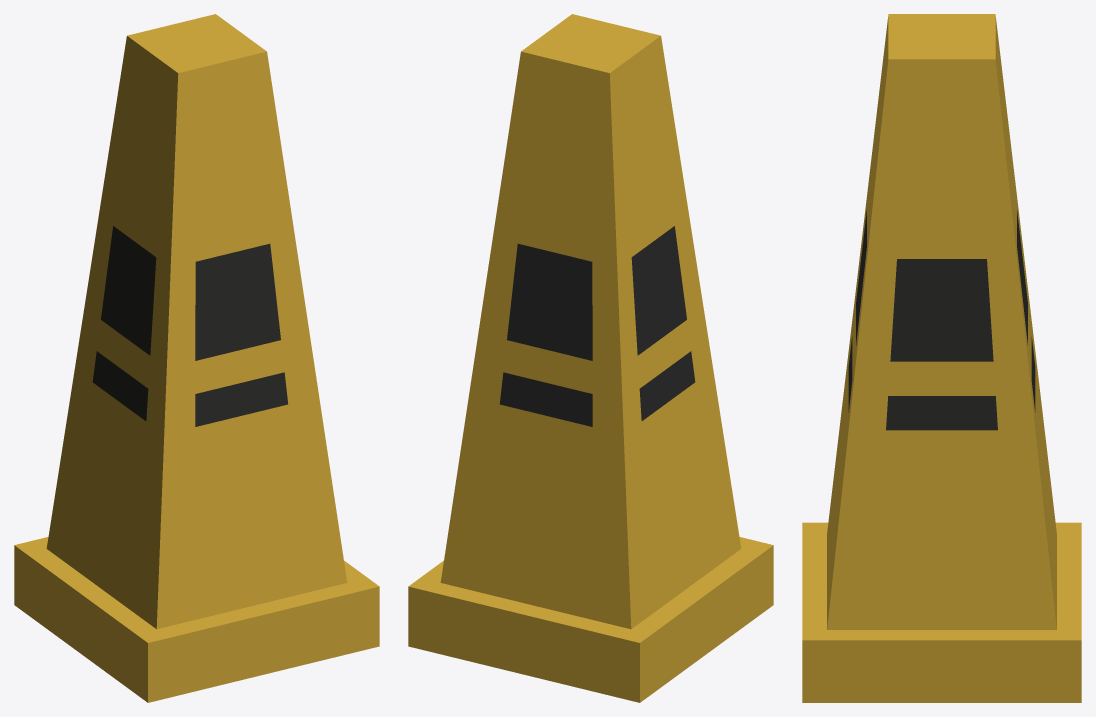
File: wetFloorCone.fbx
3 renders of one model, left to right at view 1: azimuth 30°, elevation 25°; view 2: azimuth 150°, elevation 25°; view 3: azimuth 270°, elevation 25°, orthographic. The views are drawn at different scales.
Visible parts, largest first — view 1: wetFloorCone; view 2: wetFloorCone; view 3: wetFloorCone.
Boxes of the visible parts, x1,y1,x2,y2 form: wetFloorCone: (14, 14, 379, 702); wetFloorCone: (408, 14, 773, 702); wetFloorCone: (802, 14, 1081, 702).
Bounding box in the file's own units: 24.99 × 60 × 24.99.
Materials: 1 (1 with a texture image).
